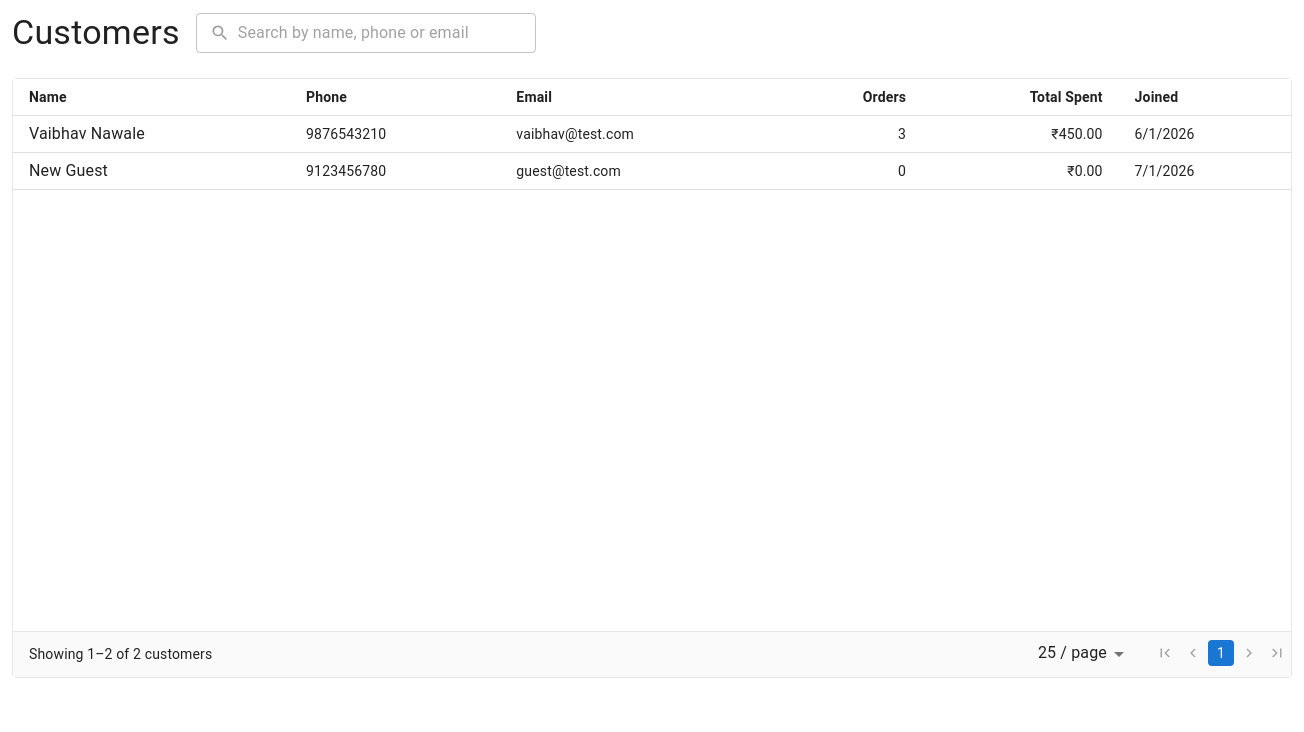
Scenario: Customers - list and search › shows the empty-search-result state rather than the no-customers-yet state
This screenshot has width=1304, height=732.
Check: the text "Vaibhav Nawale" is shown, box 29,124 -> 145,143
Type "no-such-person" into the field with placeholder "Search by name, phone or email" at (387, 33), box 238,13 -> 536,53
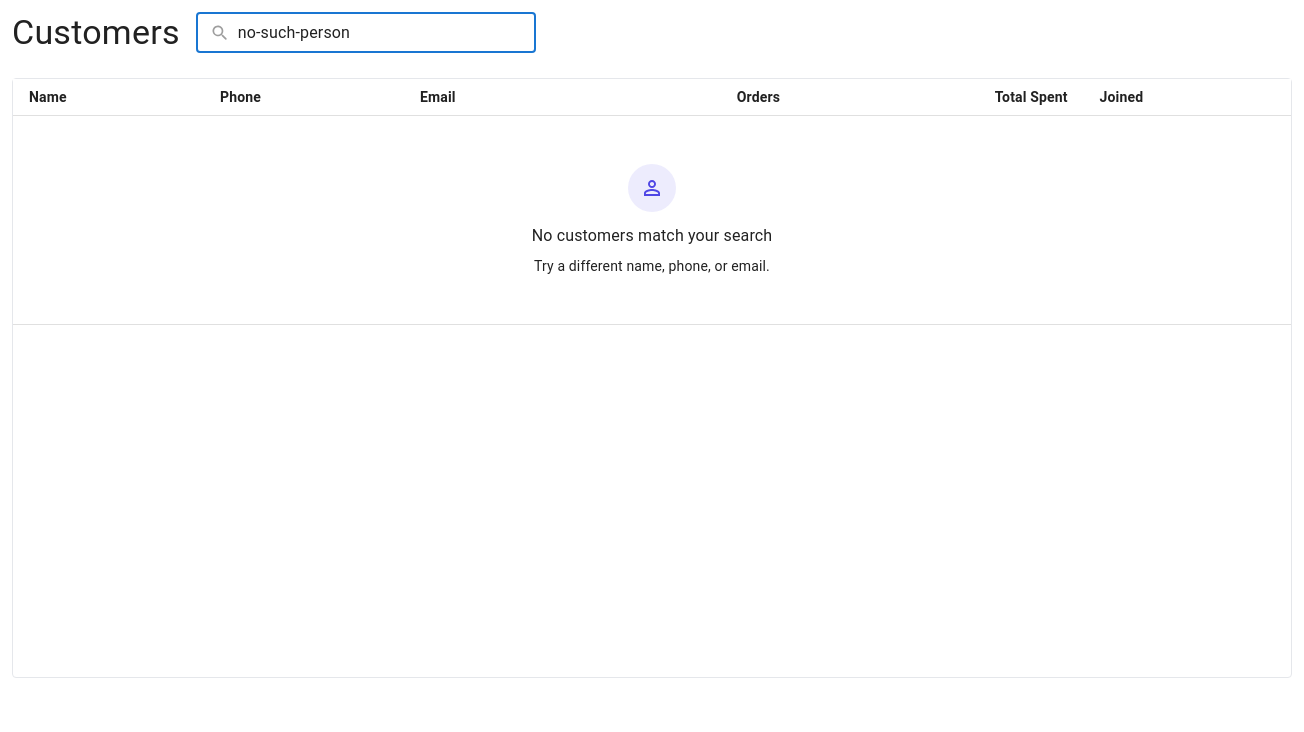
Check: the text "No customers match your search" is shown, box 532,224 -> 772,248
